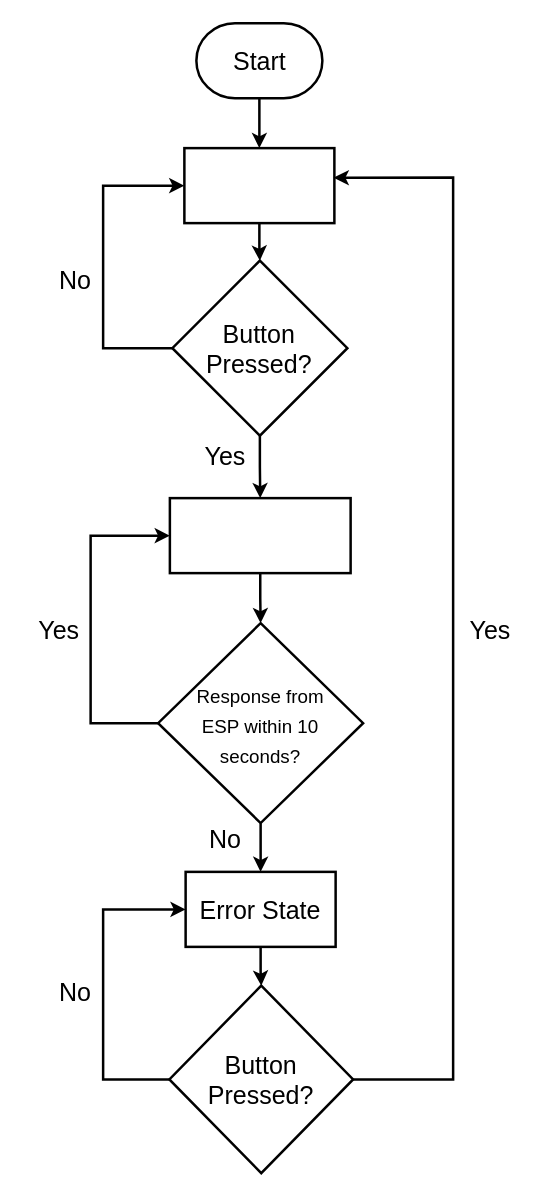
Some shapes in this 549 by 1195 pixel diagram are drawn without their labels. Each missing label, with the centre of its shape:
"Initial State" goes at (258,185).
"Sensor Reading State" goes at (259,535).
